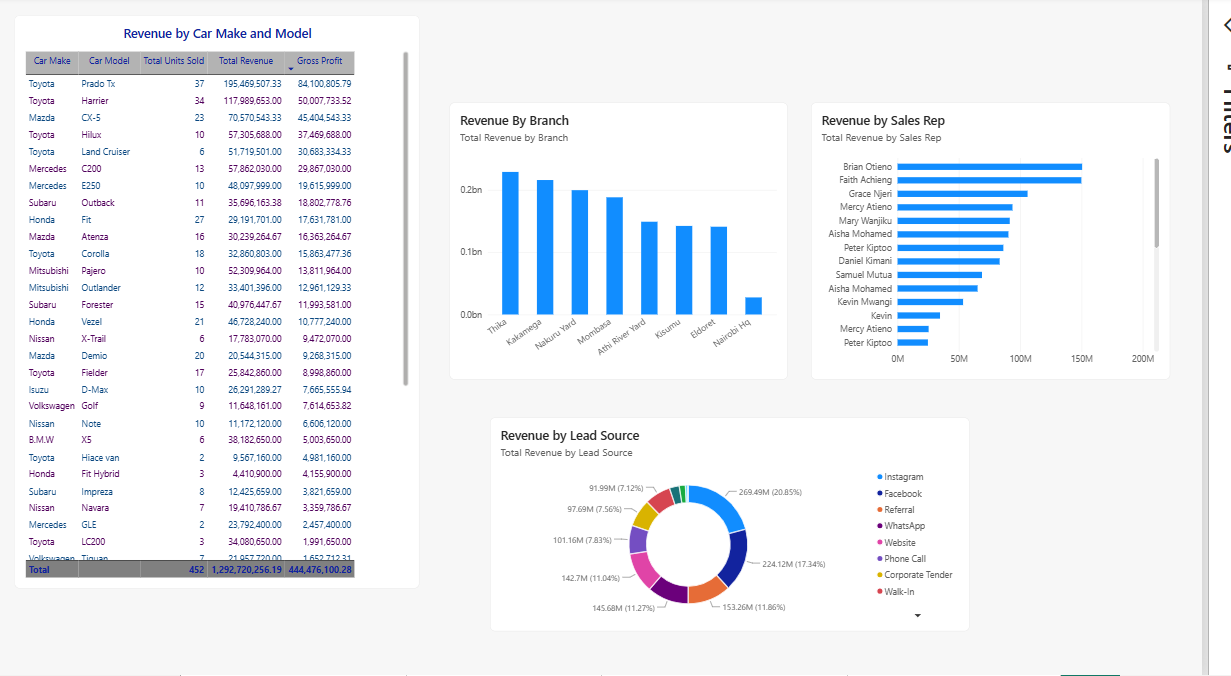

The dashboard page shown, as its layout file describes it:
{"tool":"powerbi","page":{"name":"Sales & Revenue","canvas":[1920,1080],"ordinal":1},"visuals":[{"type":"tableEx","title":"Revenue by Car Make and Model","fields":{"Values":["DimCarDetails.Car Make","DimCarDetails.Car Model","CarSalesFacts (2).Total Units Sold","CarSalesFacts (2).Total Revenue","CarSalesFacts (2).Gross Profit"]},"box":[30.4,30.4,644.1,911.4],"z":0},{"type":"clusteredColumnChart","title":" Revenue By Branch","fields":{"Category":["DimLocation.Branch"],"Y":["CarSalesFacts (2).Total Revenue"]},"box":[723,170.1,537.7,440.5],"z":1},{"type":"clusteredBarChart","title":"Revenue by Sales Rep","fields":{"Category":["CarSalesFacts (2).Sales Rep"],"Y":["CarSalesFacts (2).Total Revenue"]},"box":[1297.2,170.1,571.1,440.5],"z":2},{"type":"donutChart","title":"Revenue by Lead Source","fields":{"Category":["CarSalesFacts (2).Lead Source"],"Y":["CarSalesFacts (2).Total Revenue"]},"box":[786.8,671.4,762.5,340.3],"z":3}]}

Visuals, with their boxes on the page's 1920x1080 design canvas (x1, y1, x2, y2). These are canvas units, not pixel positions in the 1231x676 screenshot, which may show the page scaled, cropped or inside an application window:
"Revenue by Car Make and Model" tableEx: x1=30 y1=30 x2=674 y2=942
" Revenue By Branch" clusteredColumnChart: x1=723 y1=170 x2=1261 y2=611
"Revenue by Sales Rep" clusteredBarChart: x1=1297 y1=170 x2=1868 y2=611
"Revenue by Lead Source" donutChart: x1=787 y1=671 x2=1549 y2=1012
